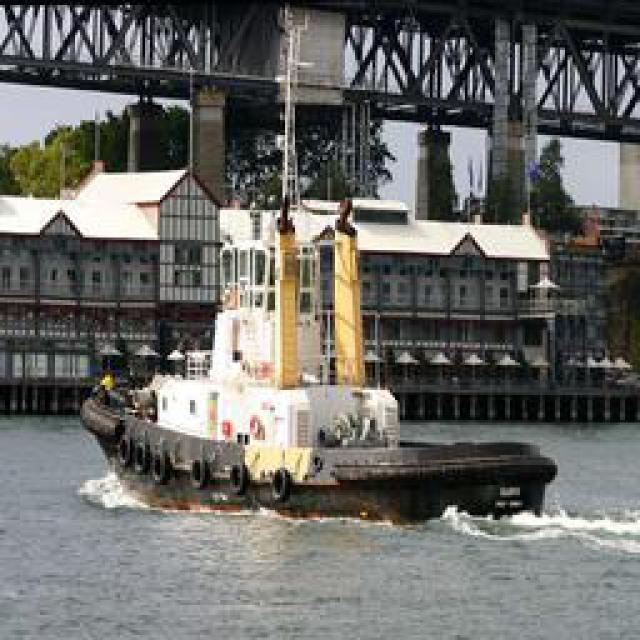Ship: (75, 274, 557, 540)
